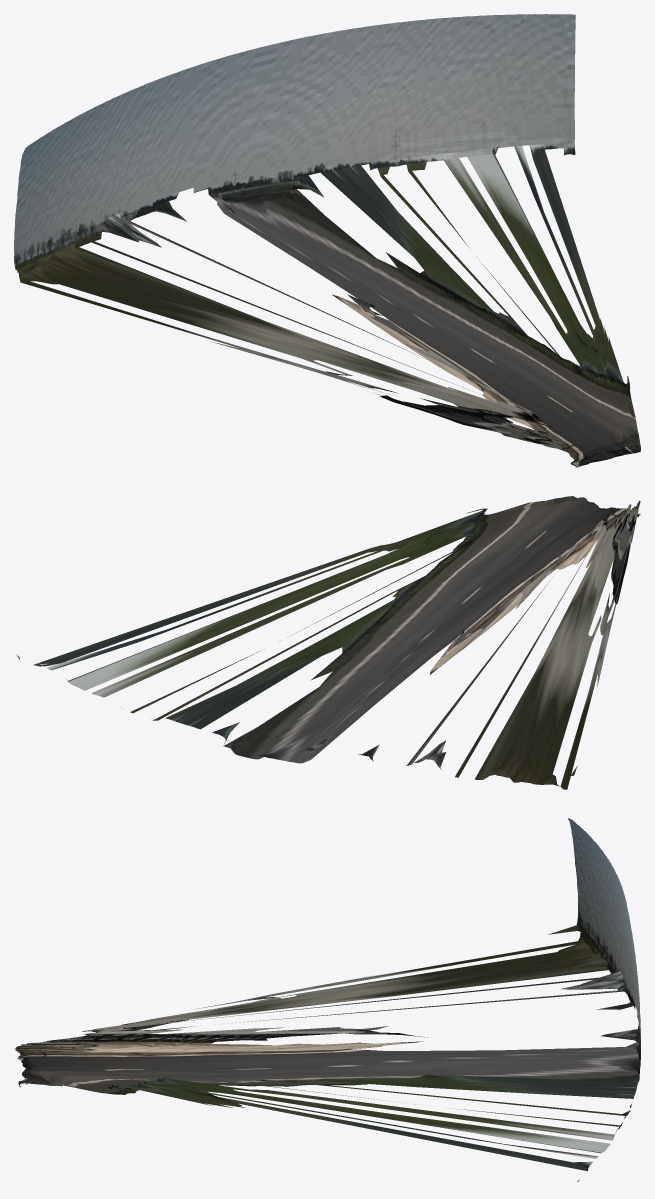
The picture shows the model from 3 angles, top to bottom: view 1: azimuth 30°, elevation 25°; view 2: azimuth 150°, elevation 25°; view 3: azimuth 270°, elevation 25°; orthographic projection. The views are drawn at different scales.
Parts seen in each view (by area): view 1: defaultobject; view 2: defaultobject; view 3: defaultobject.
Part boxes in pixels (<box>): defaultobject: <box>14,14,640,467</box>; defaultobject: <box>16,496,640,789</box>; defaultobject: <box>14,818,640,1181</box>.
Size of the model in its own units: 41.16 by 11.75 by 44.76.
Materials: 1 (1 with a texture image).
